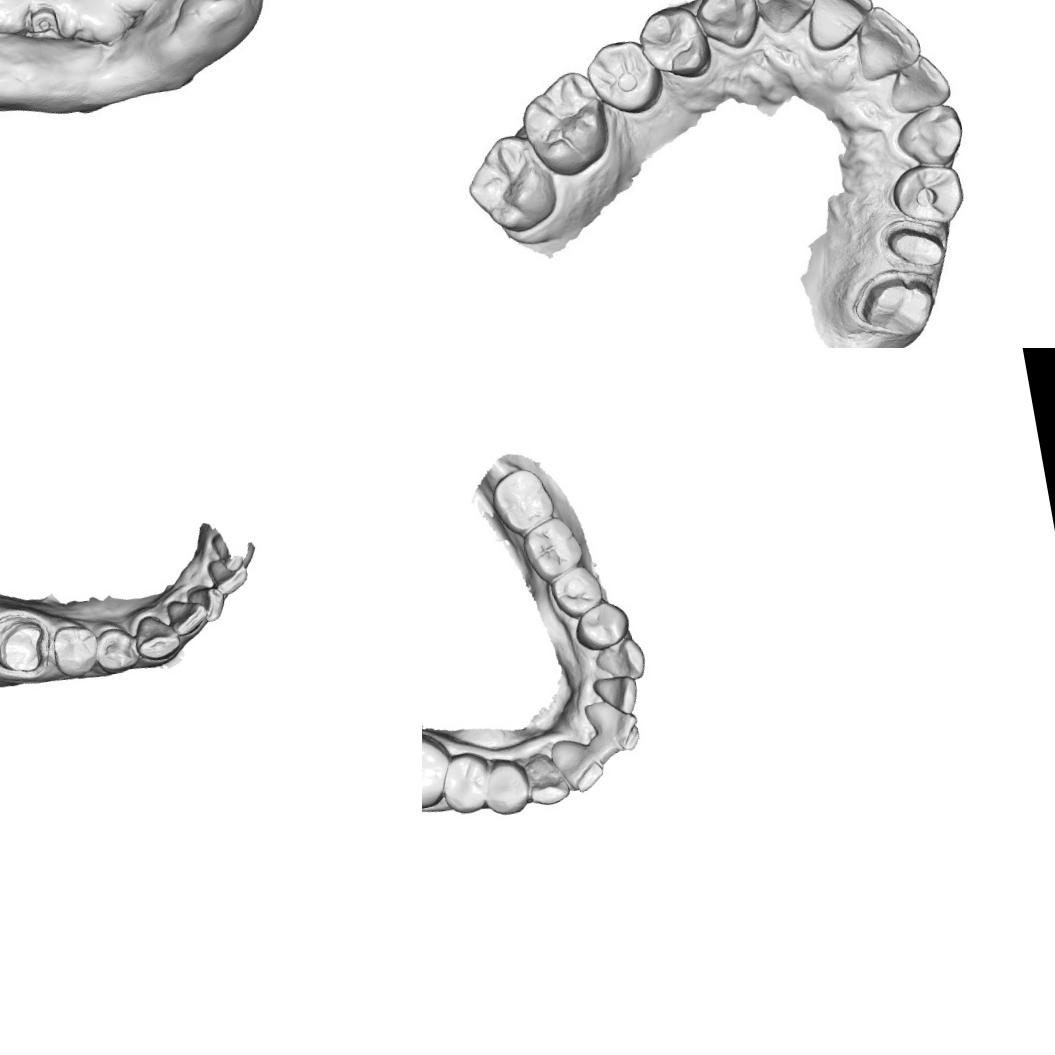canine: (888, 103, 965, 169), (516, 746, 572, 810), (128, 608, 185, 666), (698, 0, 763, 49), (697, 0, 762, 49), (589, 634, 648, 685)
crown: (856, 264, 940, 348), (876, 221, 954, 276), (0, 612, 52, 680)
implant: (16, 0, 64, 42)
incisor: (850, 2, 926, 80), (580, 692, 643, 758), (546, 730, 608, 796), (890, 52, 948, 112), (802, 0, 875, 47), (588, 670, 642, 720), (161, 590, 210, 640), (202, 552, 251, 600), (756, 0, 818, 33), (184, 580, 226, 626)
molar: (508, 68, 622, 184), (459, 124, 565, 241), (888, 158, 970, 230), (486, 462, 558, 540), (517, 511, 587, 586), (422, 723, 458, 816)
premolar: (582, 28, 670, 122), (633, 0, 717, 87), (434, 748, 496, 818), (542, 560, 608, 622), (569, 596, 632, 656), (477, 753, 533, 819), (46, 618, 104, 680), (90, 620, 142, 678)
